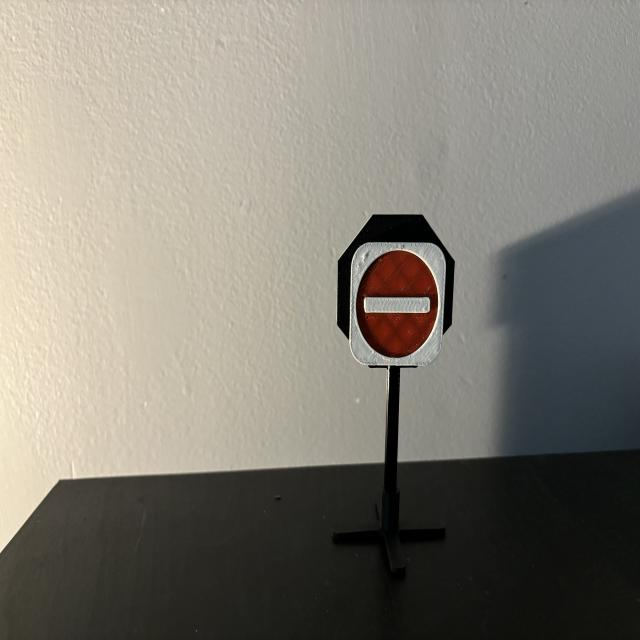sign_noentry: (351, 243, 447, 366)
